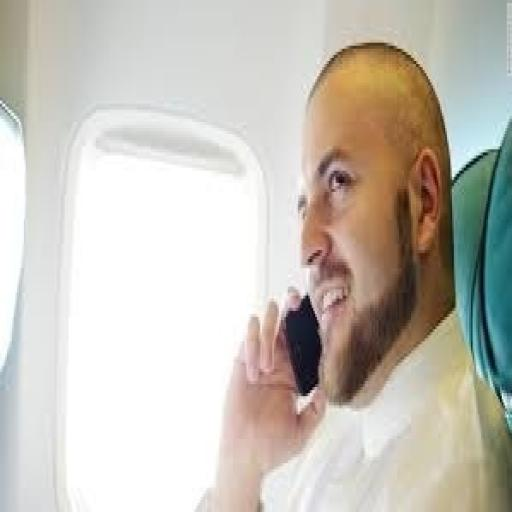calling: (194, 37, 508, 509)
